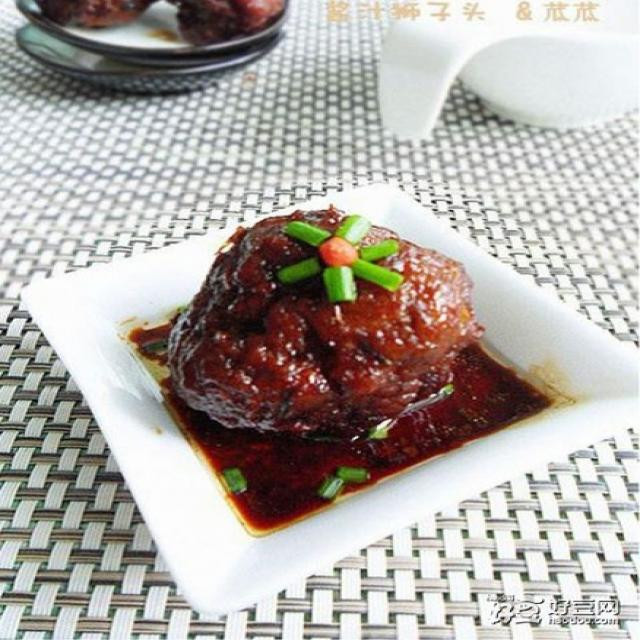Meatball: (156, 204, 494, 466)
